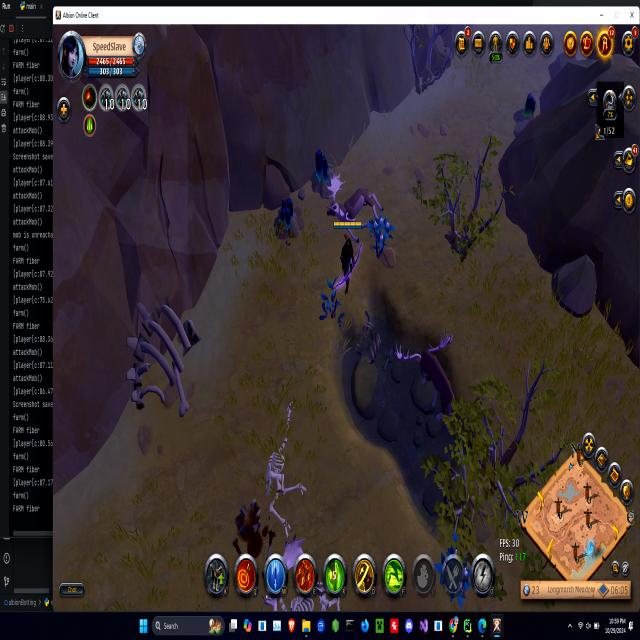hide: (439, 542, 474, 605), (369, 206, 394, 256)
mob: (329, 180, 383, 232)
ore: (398, 336, 459, 427)
player: (311, 146, 342, 198), (271, 195, 303, 242), (513, 90, 539, 132)
red: (334, 217, 362, 278)
